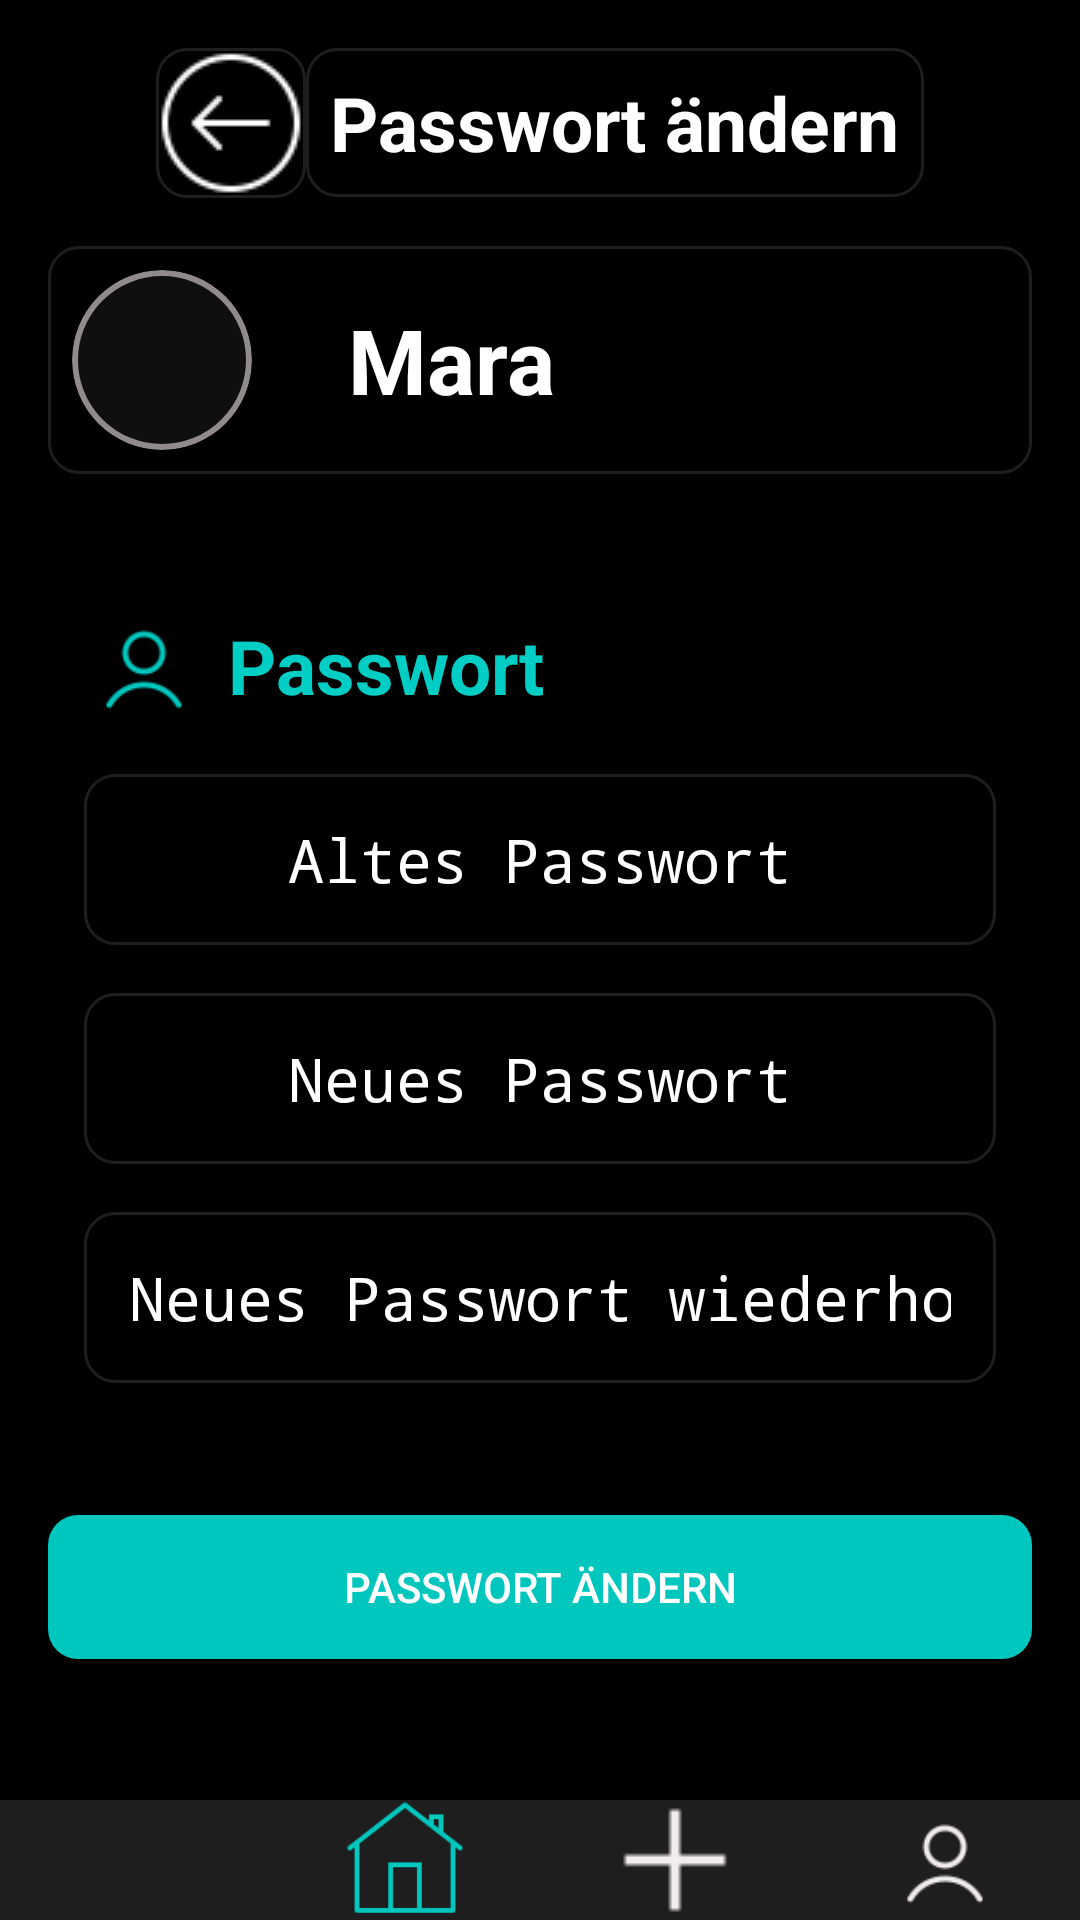

Where to tap for icons on this 1080px x 1920px app screen, as point (x, y):
add: point (675, 1860)
home: point (405, 1857)
profile: point (144, 669), point (945, 1863)
Zurück: point (231, 123)
